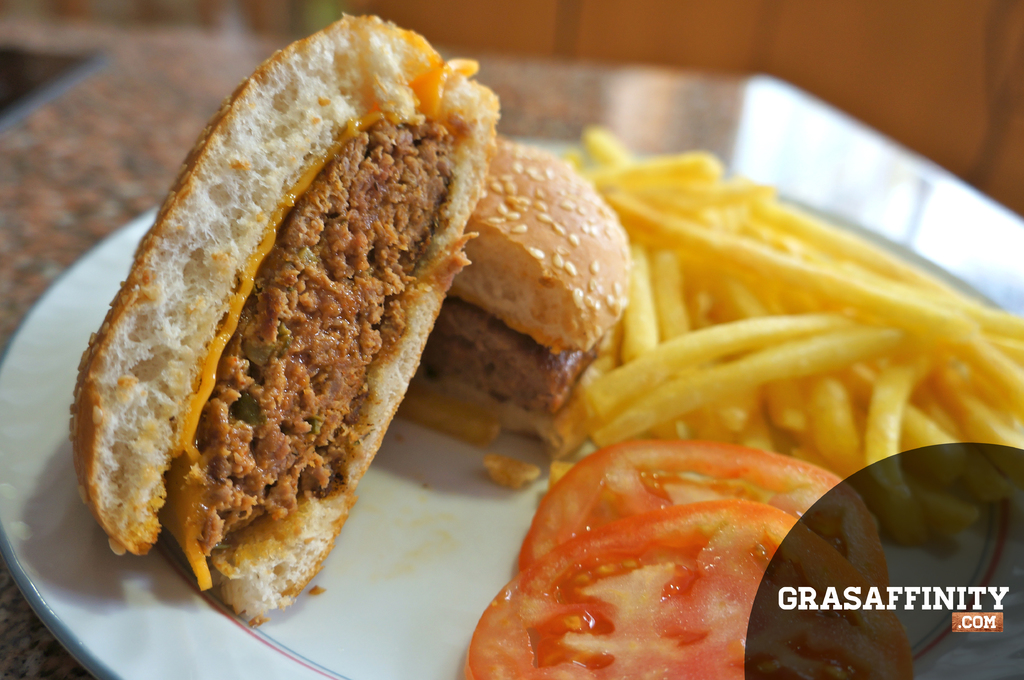French fries: (478, 109, 1023, 554)
